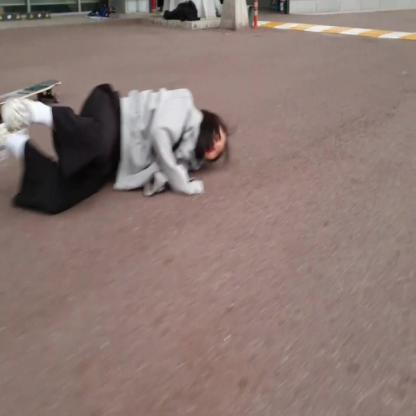Fall_Down: (2, 78, 231, 210)
